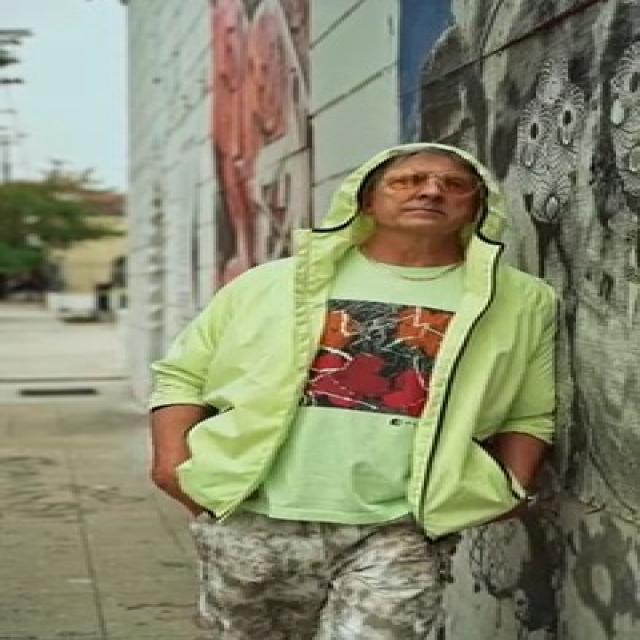Jacket_Wearer: (176, 228, 602, 503)
Person: (119, 135, 578, 639)
